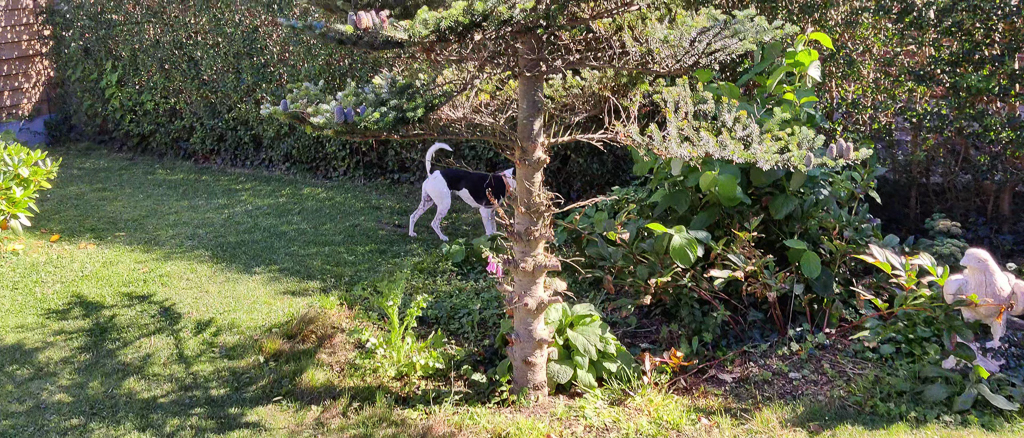Dog: (401, 136, 533, 248)
Eagle: (937, 240, 1024, 384)
